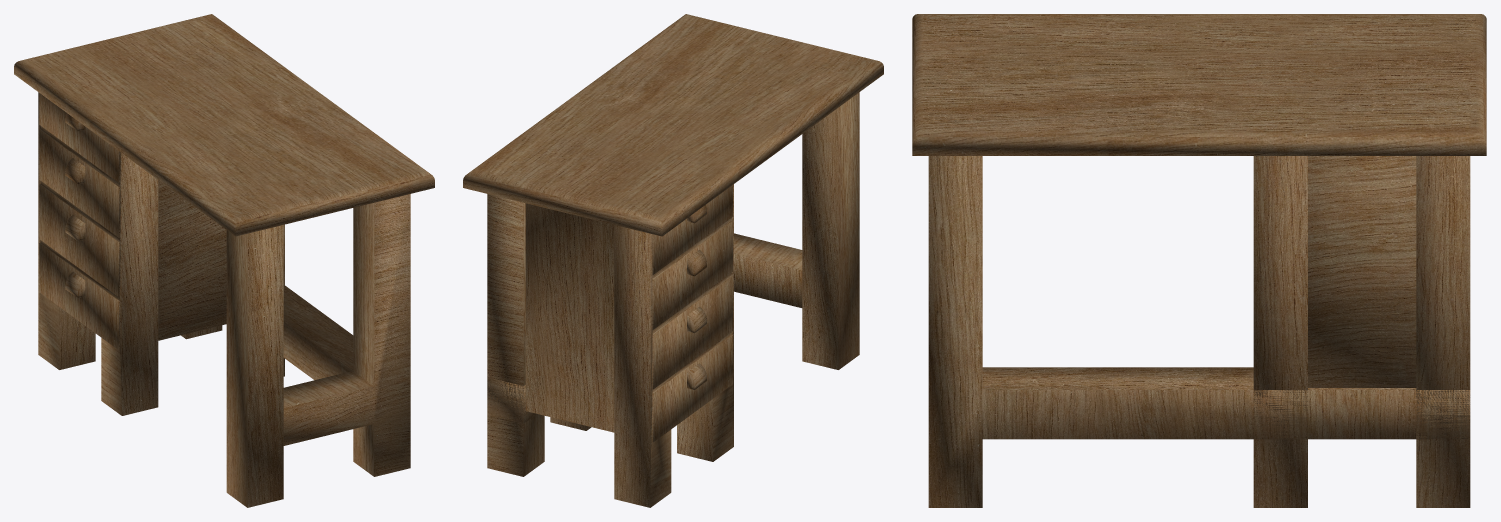
Rendered from tavolino_macchina.fbx.
3 views of the same model, side by side, from view 1: azimuth 30°, elevation 25°; view 2: azimuth 150°, elevation 25°; view 3: azimuth 270°, elevation 25° (orthographic). The views are drawn at different scales.
Parts seen in each view (by area): view 1: Pianoforte (2); view 2: Pianoforte (2); view 3: Pianoforte (2).
Boxes of the visible parts, x1,y1,x2,y2 form: Pianoforte (2): [14, 14, 434, 507]; Pianoforte (2): [463, 14, 883, 507]; Pianoforte (2): [912, 14, 1486, 507].
Size of the model in its own units: 887 by 1258 by 1710.
